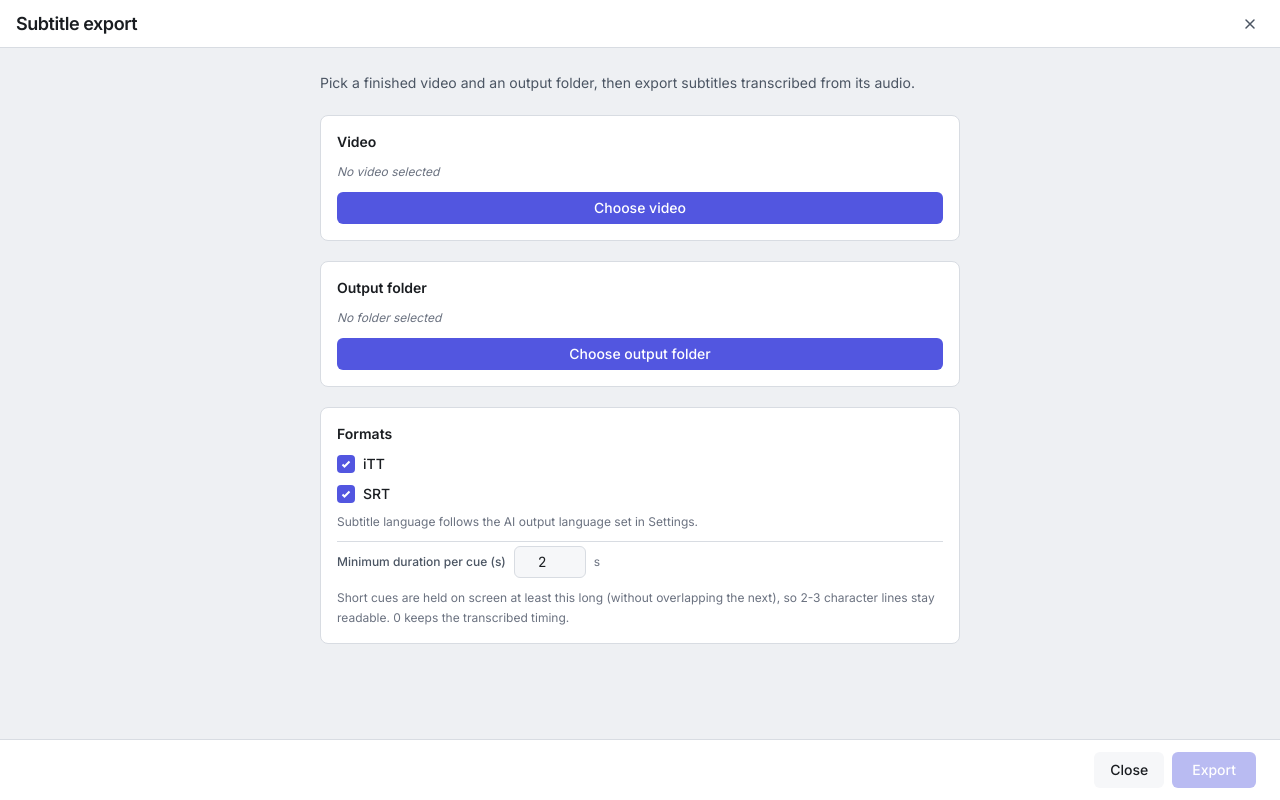
Test: SubtitlesPage › shows the chosen video and folder once picked
The width and height of the screenshot is (1280, 800).
Click the button "Choose video": (640, 208) 337,192 -> 943,224
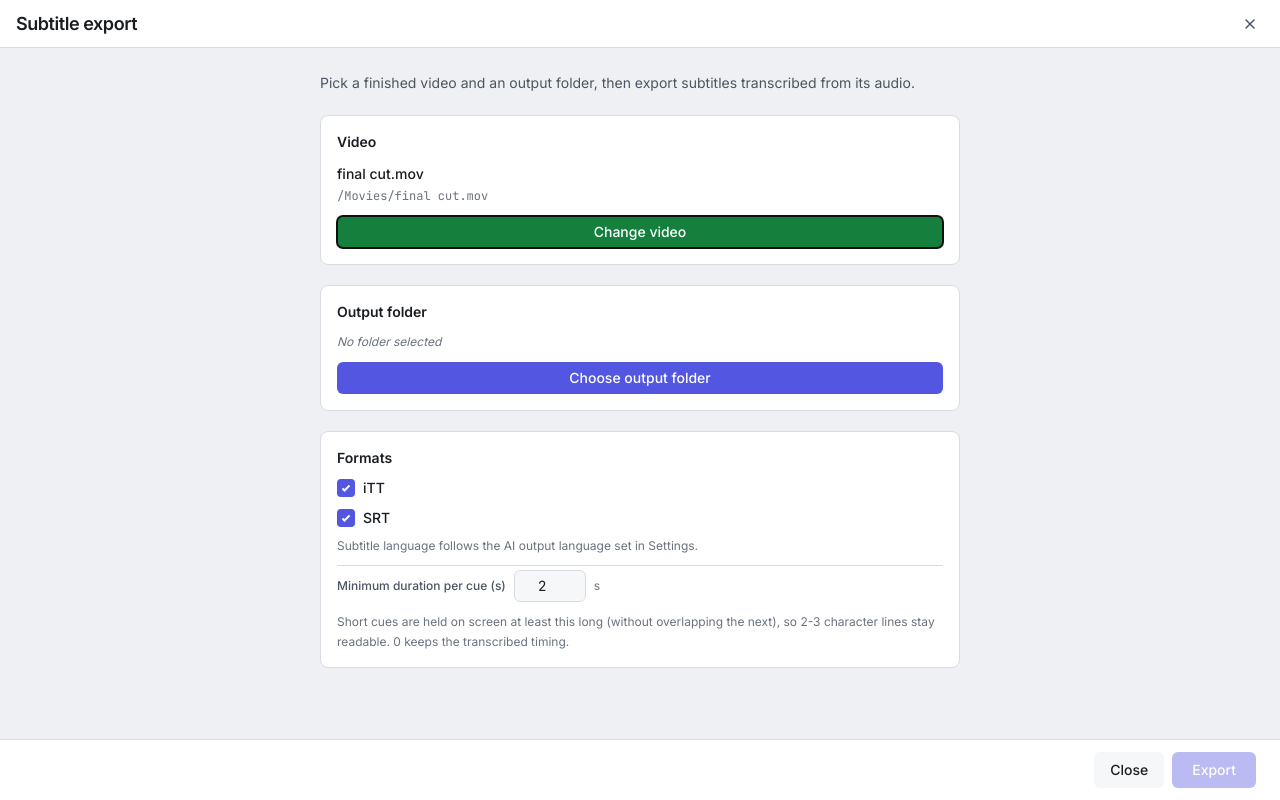
expect the text "final cut.mov" is shown: met, box 337,165 -> 424,182
Click the button "Choose output folder": (640, 378) 337,362 -> 943,394
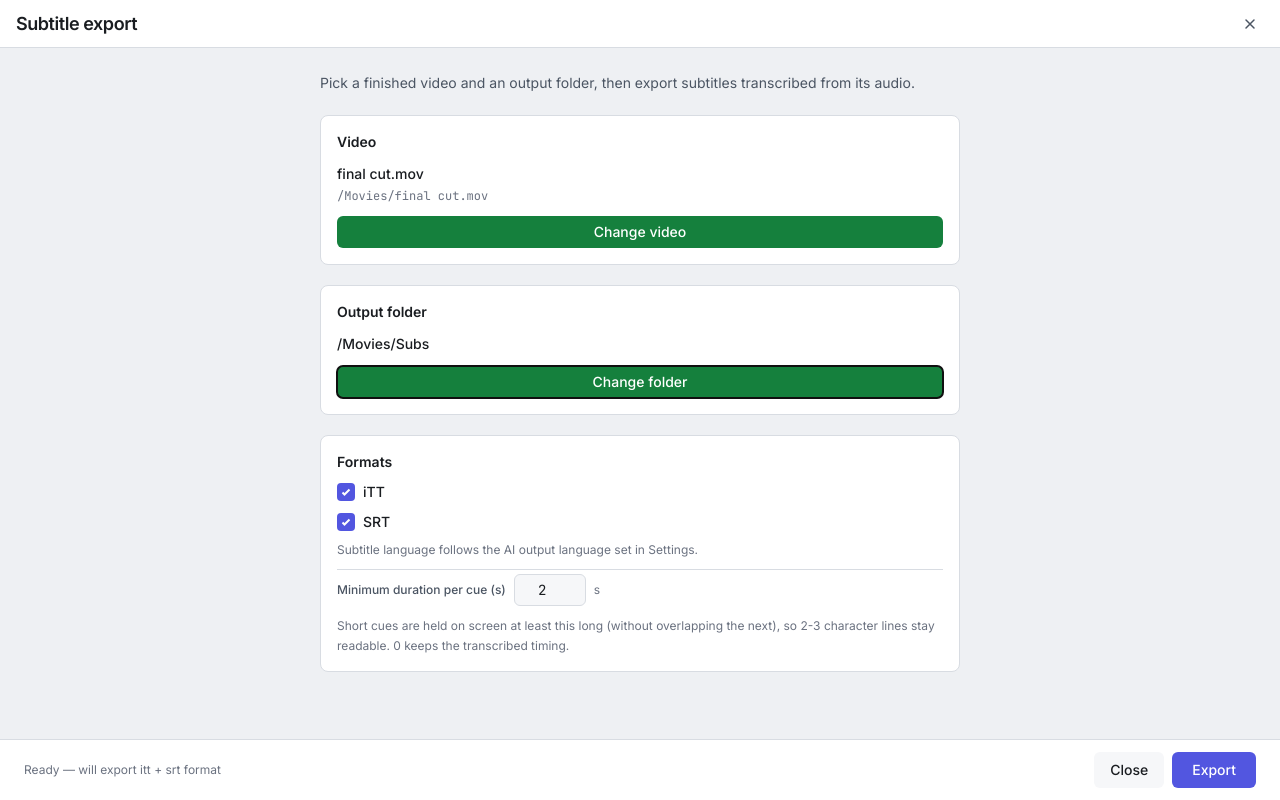
expect the text "/Movies/Subs" is shown: met, box 337,335 -> 429,352
